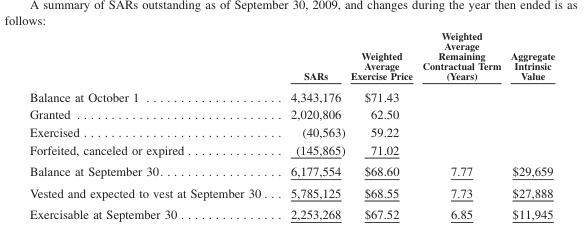table: (29, 29, 554, 220)
table column: (29, 29, 278, 220), (416, 29, 505, 220), (278, 29, 347, 220), (347, 29, 416, 220), (505, 29, 554, 220)
table column header: (29, 29, 554, 85)
table row: (29, 29, 554, 85), (29, 181, 554, 203), (29, 160, 554, 181), (29, 85, 554, 105), (29, 140, 554, 160), (29, 122, 554, 140), (29, 105, 554, 122), (29, 203, 554, 220)
